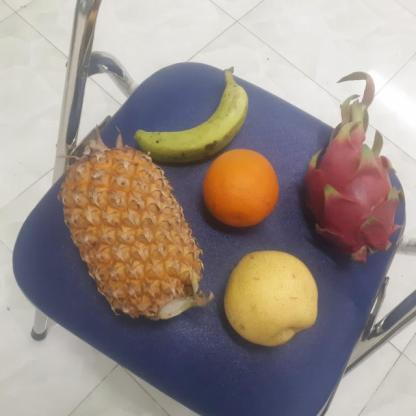banana: (132, 67, 248, 162)
orange: (197, 146, 285, 228)
pear: (219, 246, 322, 348)
pineapple: (57, 148, 208, 317)
pitaya: (295, 126, 404, 266)
